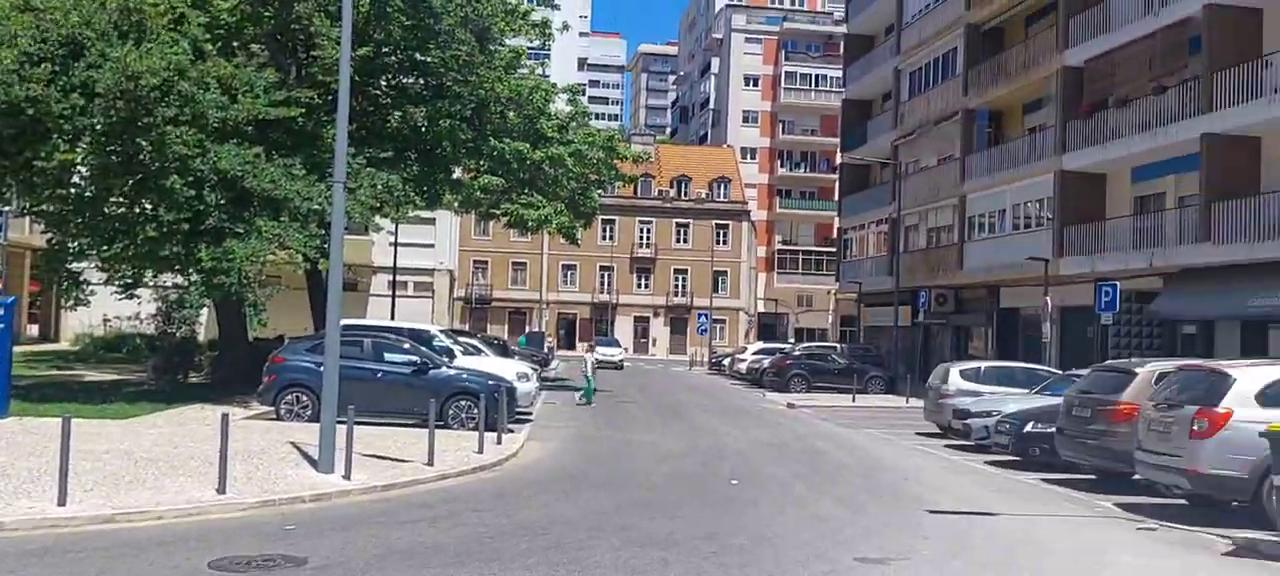Estacionamento autorizado: (1096, 281, 1121, 314)
